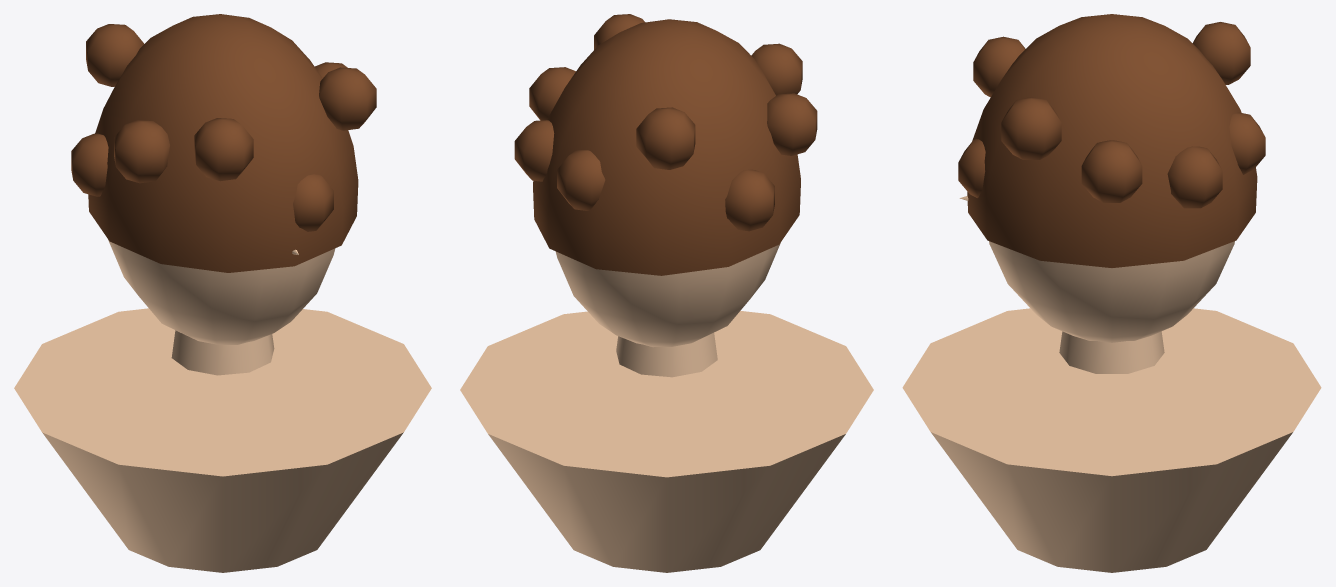
File: raw_002.glb
3 views of the same model, side by side, from view 1: azimuth 30°, elevation 25°; view 2: azimuth 150°, elevation 25°; view 3: azimuth 270°, elevation 25° (orthographic).
Bounding box in the file's own units: 1.67 × 2.22 × 1.67.
